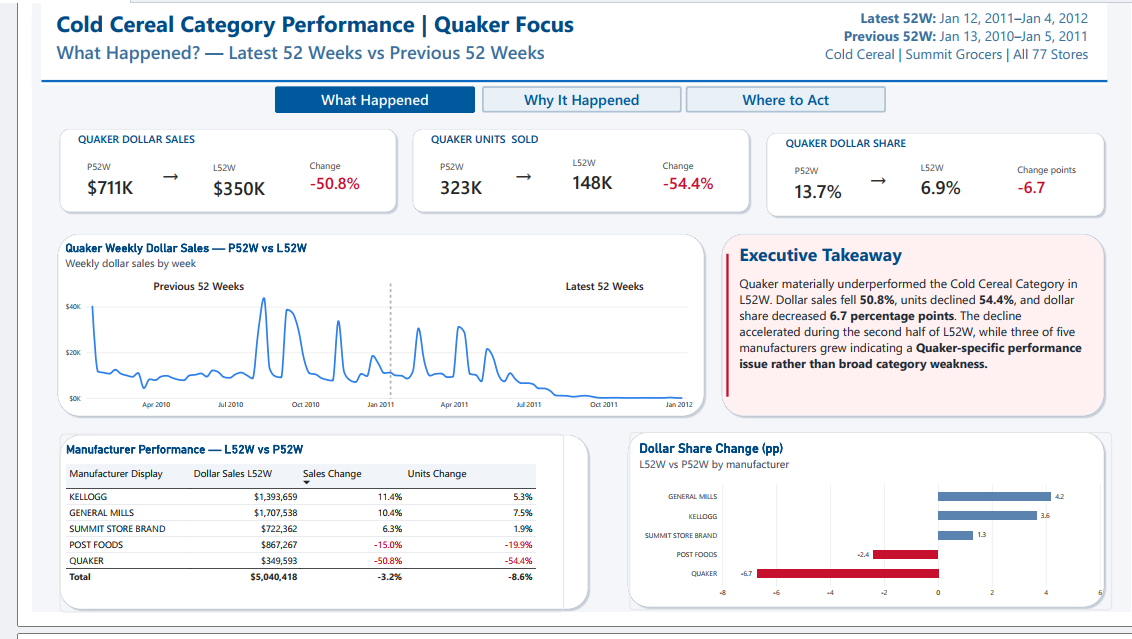

This screenshot's page, from the dashboard's own definition file:
{"tool":"powerbi","page":{"name":"Executive Summary","canvas":[1920,1080],"ordinal":0},"visuals":[{"type":"shape","box":[16.7,0,1863.3,156.7],"z":0},{"type":"shape","box":[43.3,230,600,155],"z":0,"group":"g1"},{"type":"shape","box":[660,230,600,155],"z":0,"group":"g3"},{"type":"shape","box":[1280,236.7,600,155],"z":0,"group":"g2"},{"type":"textbox","box":[80.8,240,220,32.5],"z":1000,"group":"g1"},{"type":"textbox","box":[697.5,240,220,32.5],"z":1000,"group":"g3"},{"type":"textbox","box":[1317.5,246.7,220,32.5],"z":1000,"group":"g2"},{"type":"shape","box":[43.3,765,935,315],"z":1000},{"type":"cardVisual","fields":{"Data":["_Measures.Dollar Sales P52W"]},"box":[81.6,273.3,148.3,101.7],"z":2000,"group":"g1"},{"type":"cardVisual","fields":{"Data":["_Measures.Units Sold P52W"]},"box":[698.3,273.3,148.3,101.7],"z":2000,"group":"g3"},{"type":"cardVisual","fields":{"Data":["_Measures.Dollar Share P52W"]},"box":[1318.3,280,148.3,101.7],"z":2000,"group":"g2"},{"type":"shape","box":[40,413.3,1140,330],"z":2000},{"type":"cardVisual","fields":{"Data":["_Measures.Units Sold L52W"]},"box":[930,270,155,92.5],"z":3000,"group":"g3"},{"type":"cardVisual","fields":{"Data":["_Measures.Dollar Share L52W"]},"box":[1537.5,279.2,167.5,90],"z":3000,"group":"g2"},{"type":"cardVisual","fields":{"Data":["_Measures.Dollar Sales L52W"]},"box":[300.8,282.5,167.5,85],"z":3000,"group":"g1"},{"type":"shape","box":[1036.3,759.2,842.9,317.1],"z":3000},{"type":"textbox","box":[215.8,290,50,72.5],"z":4000,"group":"g1"},{"type":"textbox","box":[832.5,290,50,72.5],"z":4000,"group":"g3"},{"type":"textbox","box":[1452.5,296.7,50,72.5],"z":4000,"group":"g2"},{"type":"shape","box":[1200,413.3,680,330],"z":4000},{"type":"cardVisual","fields":{"Data":["_Measures.Dollar Sales % Change"]},"box":[470,273.3,151.7,90],"z":5000,"group":"g1"},{"type":"cardVisual","fields":{"Data":["_Measures.Units Sold % Change"]},"box":[1086.7,273.3,151.7,90],"z":5000,"group":"g3"},{"type":"cardVisual","fields":{"Data":["_Measures.Dollar Share Change pp"]},"box":[1706.7,280,151.7,90],"z":5000,"group":"g2"},{"type":"lineChart","title":"Quaker Weekly Dollar Sales — P52W vs L52W","fields":{"Category":["Dim Date.Date"],"Y":["_Measures.Dollar Sales"]},"box":[43.3,416.7,1132.5,330],"z":5000},{"type":"textbox","box":[213.3,496.7,260,43.3],"z":6000},{"type":"textbox","box":[813.3,496.7,256.7,43.3],"z":7000},{"type":"textbox","title":"Executive Takeaway","box":[1216.7,413.3,643.3,326.7],"z":8000},{"type":"tableEx","title":"Manufacturer Performance — L52W vs P52W","fields":{"Values":["dh Products Lookup.Manufacturer Display","_Measures.Dollar Sales L52W","_Measures.Dollar Sales % Change","_Measures.Units Sold % Change"]},"box":[49.1,767.9,880.5,311.8],"z":9000},{"type":"clusteredBarChart","title":"Dollar Share Change (pp)","fields":{"Category":["dh Products Lookup.Manufacturer Display"],"Y":["_Measures.Dollar Share Change pp"]},"box":[1045,765,842.9,311.4],"z":10000},{"type":"textbox","title":"Cold Cereal Category Performance | Quaker Focus","box":[43.3,23.3,936.7,133.3],"z":11000},{"type":"textbox","box":[1070,23.3,776.7,133.3],"z":12000},{"type":"shape","box":[17,102,1863,98],"z":13000},{"type":"shape","box":[1120,453.3,191.7,249.2],"z":14000},{"type":"group","id":"g1","title":"Group 1","box":[43.3,230,600,153.3],"z":15000},{"type":"group","id":"g2","title":"Group 1","box":[1280,236.7,600,156.7],"z":16000},{"type":"group","id":"g3","title":"Group 1","box":[660,230,600,156.7],"z":17000},{"type":"actionButton","box":[786.7,160,349.3,46.2],"z":18000},{"type":"actionButton","box":[1143.3,160,349.3,46.2],"z":19000},{"type":"actionButton","box":[425,160,350,46.7],"z":20000}]}

Visuals, with their boxes in screenshot pixels (x1, y1, x2, y2), scaled from the page's 1920x1080 canvas onto the 1132x639 screenshot:
shape: x1=10 y1=0 x2=1108 y2=93
shape: x1=26 y1=136 x2=379 y2=228
shape: x1=389 y1=136 x2=743 y2=228
shape: x1=755 y1=140 x2=1108 y2=232
textbox: x1=48 y1=142 x2=177 y2=161
textbox: x1=411 y1=142 x2=541 y2=161
textbox: x1=777 y1=146 x2=906 y2=165
shape: x1=26 y1=453 x2=577 y2=638
cardVisual - _Measures.Dollar Sales P52W: x1=48 y1=162 x2=136 y2=222
cardVisual - _Measures.Units Sold P52W: x1=412 y1=162 x2=499 y2=222
cardVisual - _Measures.Dollar Share P52W: x1=777 y1=166 x2=865 y2=226
shape: x1=24 y1=245 x2=696 y2=440
cardVisual - _Measures.Units Sold L52W: x1=548 y1=160 x2=640 y2=214
cardVisual - _Measures.Dollar Share L52W: x1=906 y1=165 x2=1005 y2=218
cardVisual - _Measures.Dollar Sales L52W: x1=177 y1=167 x2=276 y2=217
shape: x1=611 y1=449 x2=1108 y2=637
textbox: x1=127 y1=172 x2=157 y2=214
textbox: x1=491 y1=172 x2=520 y2=214
textbox: x1=856 y1=176 x2=886 y2=218
shape: x1=708 y1=245 x2=1108 y2=440
cardVisual - _Measures.Dollar Sales % Change: x1=277 y1=162 x2=367 y2=215
cardVisual - _Measures.Units Sold % Change: x1=641 y1=162 x2=730 y2=215
cardVisual - _Measures.Dollar Share Change pp: x1=1006 y1=166 x2=1096 y2=219
"Quaker Weekly Dollar Sales — P52W vs L52W" lineChart: x1=26 y1=247 x2=693 y2=442
textbox: x1=126 y1=294 x2=279 y2=320
textbox: x1=480 y1=294 x2=631 y2=320
"Executive Takeaway" textbox: x1=717 y1=245 x2=1097 y2=438
"Manufacturer Performance — L52W vs P52W" tableEx: x1=29 y1=454 x2=548 y2=638
"Dollar Share Change (pp)" clusteredBarChart: x1=616 y1=453 x2=1113 y2=637
"Cold Cereal Category Performance | Quaker Focus" textbox: x1=26 y1=14 x2=578 y2=93
textbox: x1=631 y1=14 x2=1089 y2=93
shape: x1=10 y1=60 x2=1108 y2=118
shape: x1=660 y1=268 x2=773 y2=416
"Group 1" group: x1=26 y1=136 x2=379 y2=227
"Group 1" group: x1=755 y1=140 x2=1108 y2=233
"Group 1" group: x1=389 y1=136 x2=743 y2=229
actionButton: x1=464 y1=95 x2=670 y2=122
actionButton: x1=674 y1=95 x2=880 y2=122
actionButton: x1=251 y1=95 x2=457 y2=122
